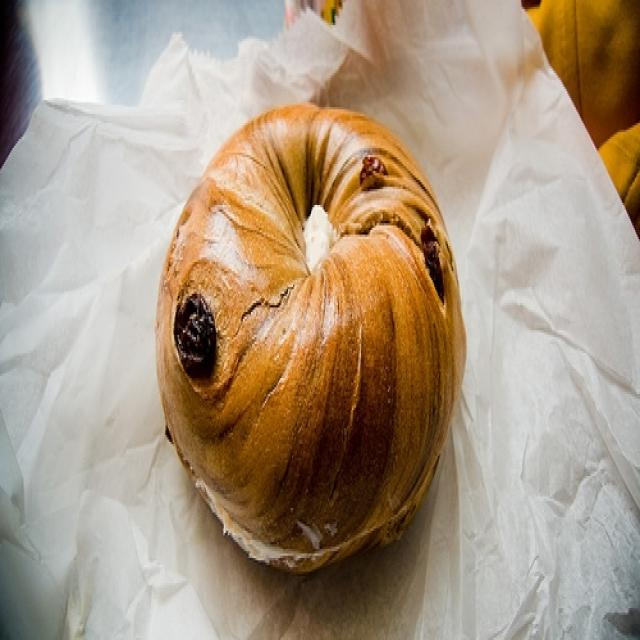面包点心: (105, 64, 534, 606)
